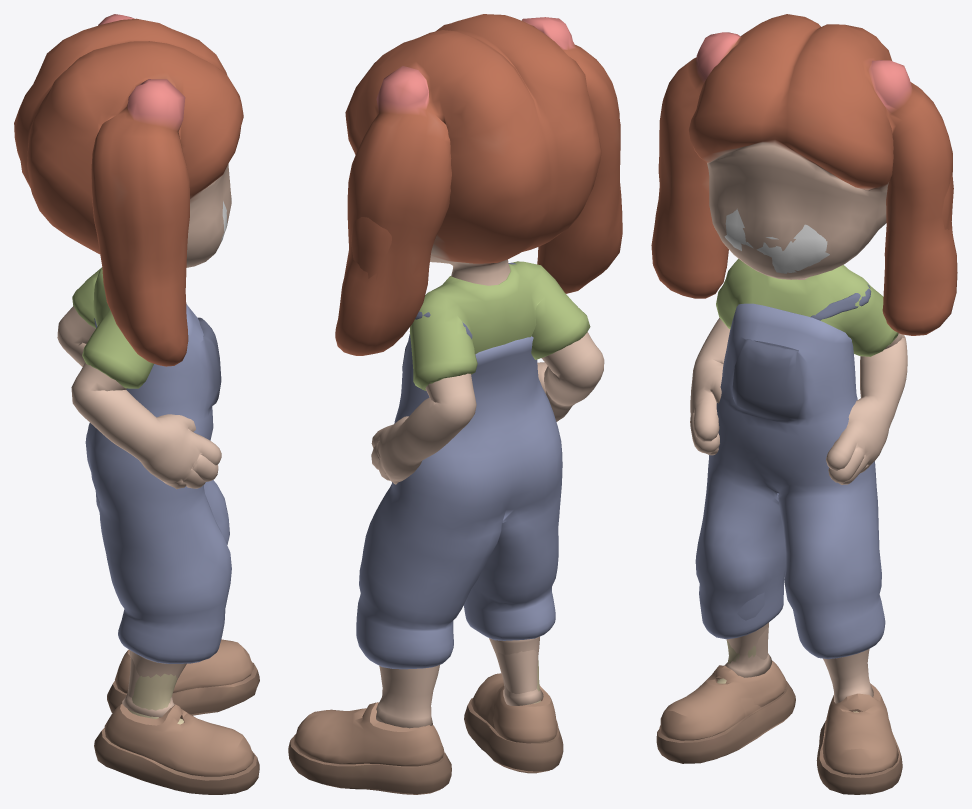
3 renders of one model, left to right at view 1: azimuth 30°, elevation 25°; view 2: azimuth 150°, elevation 25°; view 3: azimuth 270°, elevation 25°, orthographic. The views are drawn at different scales.
Visible parts, largest first — view 1: Arms.105; view 2: Arms.105; view 3: Arms.105.
Part boxes in pixels (box(x1,y1,x2,y2)): Arms.105: box(14, 14, 259, 794); Arms.105: box(288, 14, 622, 794); Arms.105: box(651, 14, 957, 794).
Bounding box in the file's own units: 60.78 × 163 × 64.03.
